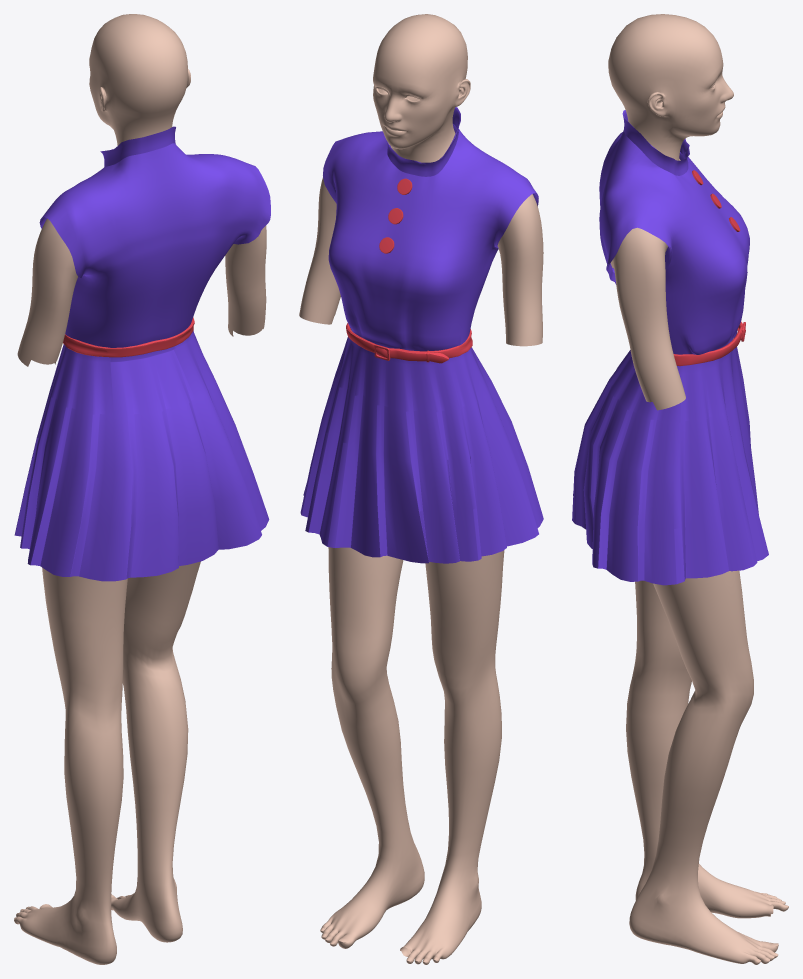
Rendered from bestido_3_manequin.fbx.
3 views of the same model, side by side, from view 1: azimuth 30°, elevation 25°; view 2: azimuth 150°, elevation 25°; view 3: azimuth 270°, elevation 25° (orthographic). The views are drawn at different scales.
Visible parts, largest first — view 1: Manequin 1, Falda, Bestido_multi.002, Manequin 1.002, Cinturon.003; view 2: Manequin 1, Falda, Bestido_multi.002, Manequin 1.002, Cinturon.003, Cinturon.004; view 3: Manequin 1, Falda, Bestido_multi.002, Manequin 1.002, Cinturon.003.
Boxes of the visible parts, x1,y1,x2,y2 form: Manequin 1: (14, 14, 200, 964); Falda: (14, 330, 269, 581); Bestido_multi.002: (39, 126, 270, 347); Manequin 1.002: (17, 218, 266, 366); Cinturon.003: (63, 317, 194, 357); Manequin 1: (320, 14, 504, 964); Falda: (300, 327, 543, 563); Bestido_multi.002: (323, 107, 538, 351); Manequin 1.002: (299, 178, 543, 346); Cinturon.003: (346, 323, 472, 358); Cinturon.004: (374, 347, 448, 363); Manequin 1: (608, 14, 788, 964); Falda: (572, 330, 768, 585); Bestido_multi.002: (599, 110, 749, 354); Manequin 1.002: (613, 227, 685, 410); Cinturon.003: (673, 323, 742, 366).
Size of the model in its own units: 55.19 by 202 by 42.9.
